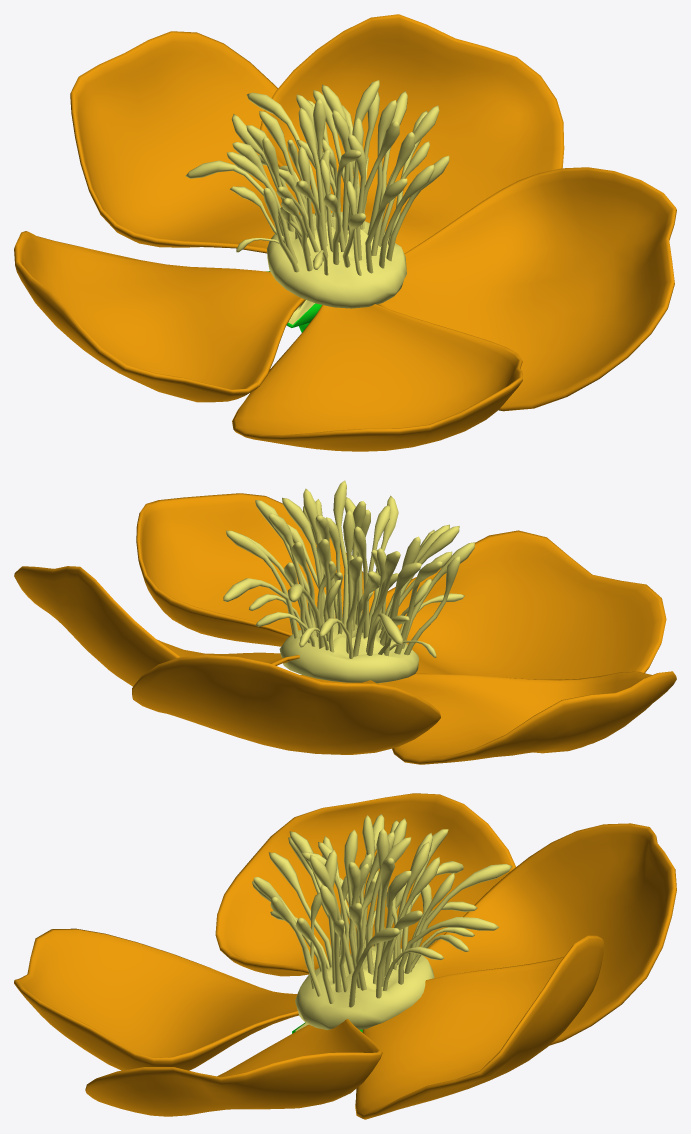
The model's file is Fleur1.glb.
3 renders of one model, top to bottom at view 1: azimuth 30°, elevation 25°; view 2: azimuth 150°, elevation 25°; view 3: azimuth 270°, elevation 25°, orthographic.
Parts seen in each view (by area): view 1: Fleur; view 2: Fleur; view 3: Fleur.
Part boxes in pixels (bbox=[...]): Fleur: bbox=[14, 14, 676, 451]; Fleur: bbox=[14, 480, 676, 764]; Fleur: bbox=[14, 793, 676, 1119].
Bounding box in the file's own units: 2.48 × 1.03 × 2.49.
